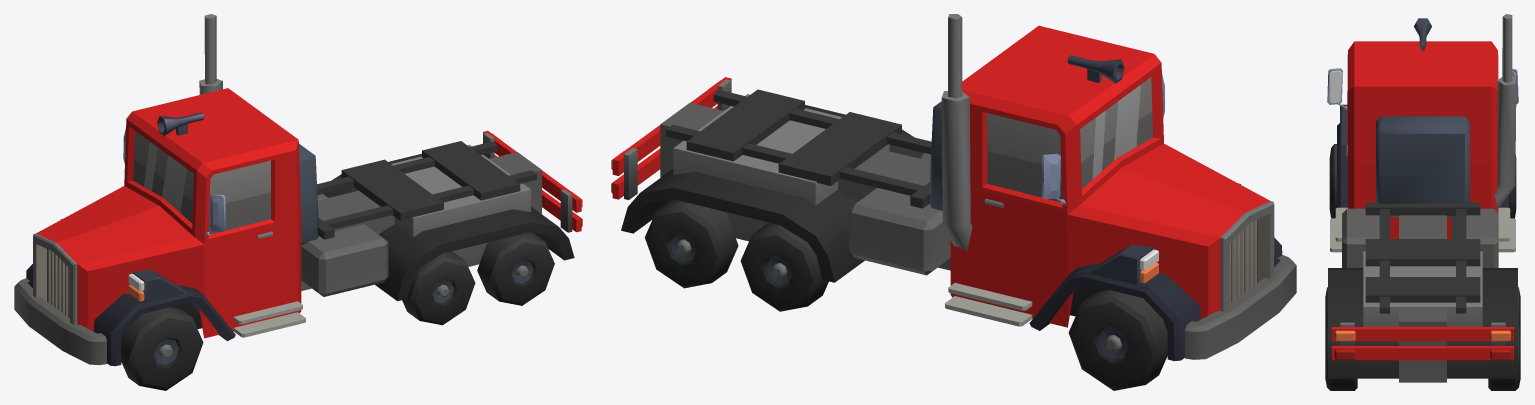
File: Truck_C.gltf
3 views of the same model, side by side, from view 1: azimuth 30°, elevation 25°; view 2: azimuth 150°, elevation 25°; view 3: azimuth 270°, elevation 25° (orthographic). The views are drawn at different scales.
Visible parts, largest first — view 1: Truck_C, FL, RM, ML; view 2: Truck_C, FR, RL, MR; view 3: Truck_C, RL, RM, FL, FR.
Boxes of the visible parts, x1,y1,x2,y2 form: Truck_C: (14, 14, 582, 366); FL: (121, 307, 203, 390); RM: (477, 232, 554, 305); ML: (402, 251, 475, 325); Truck_C: (611, 14, 1296, 361); FR: (1068, 290, 1167, 390); RL: (645, 200, 738, 288); MR: (740, 223, 828, 311); Truck_C: (1327, 14, 1518, 382); RL: (1488, 325, 1520, 390); RM: (1325, 325, 1357, 390); FL: (1329, 144, 1336, 218); FR: (1509, 155, 1516, 218).
Size of the model in its own units: 5.24 by 2.81 by 1.85.
4 materials, 4 textured.
